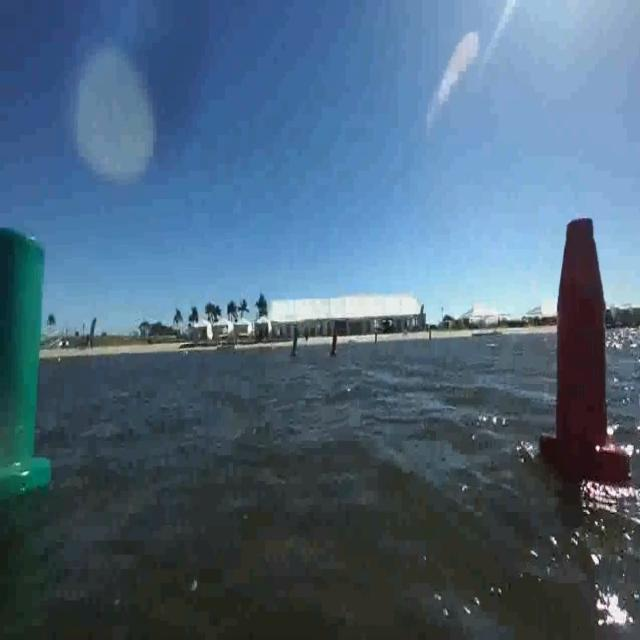green-column-buoy: (1, 225, 52, 493), (288, 325, 302, 359)
red-column-buoy: (538, 214, 628, 481), (329, 329, 340, 359)
